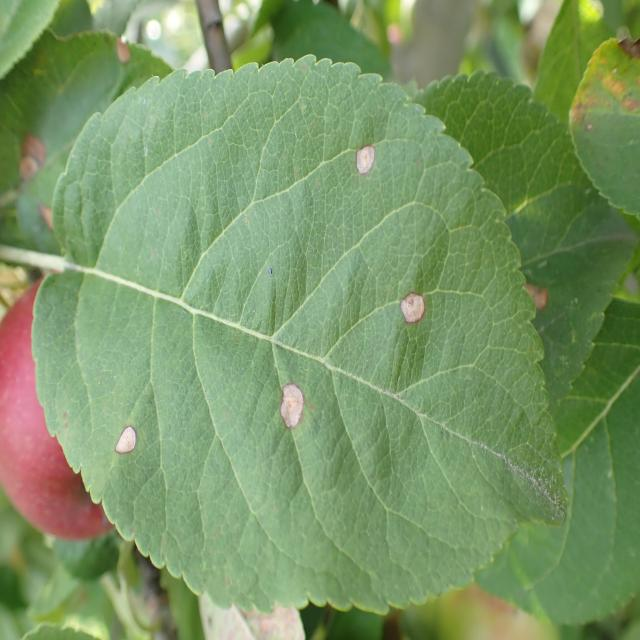Black Rot: (559, 27, 640, 138), (2, 131, 61, 252), (501, 256, 572, 346), (264, 366, 326, 438), (368, 284, 446, 338), (98, 402, 151, 472), (349, 130, 389, 198), (109, 18, 134, 97)
